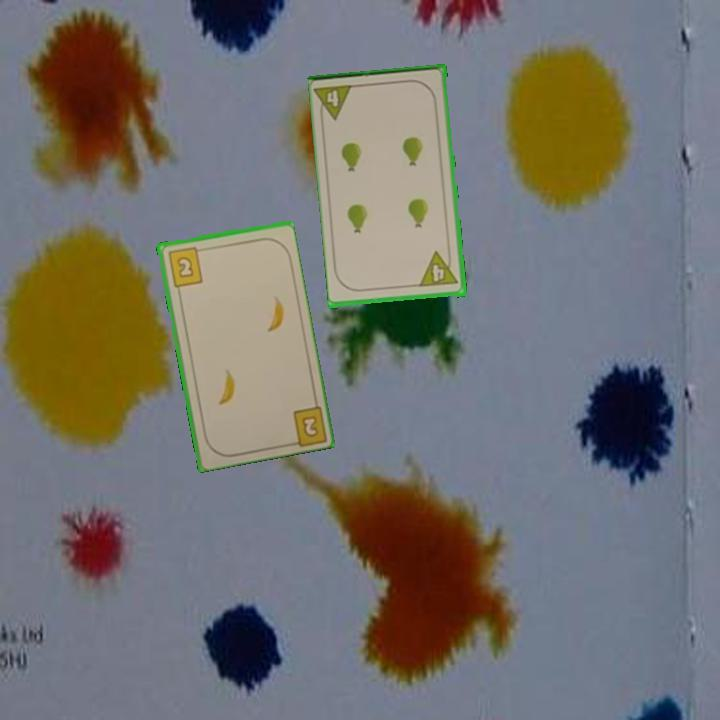2b: (164, 243, 206, 289), (298, 412, 321, 440)
4p: (313, 81, 357, 124), (417, 248, 461, 290)
